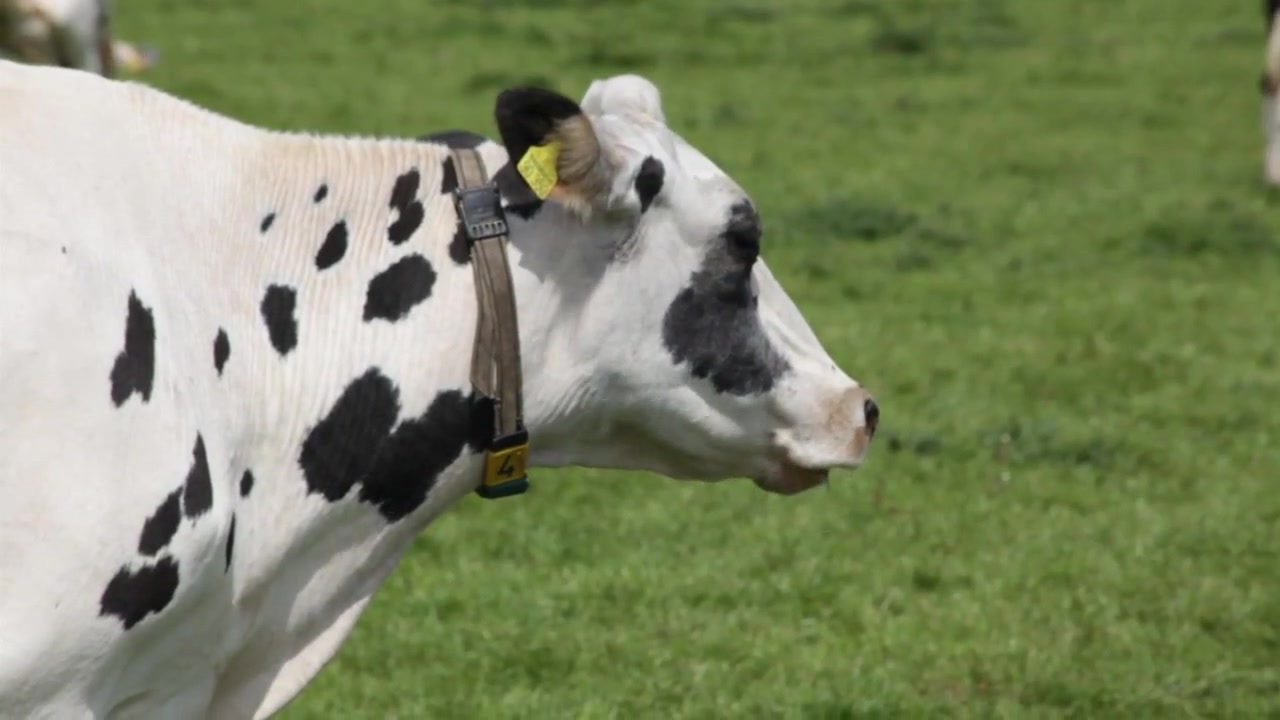cow: (2, 54, 881, 720)
